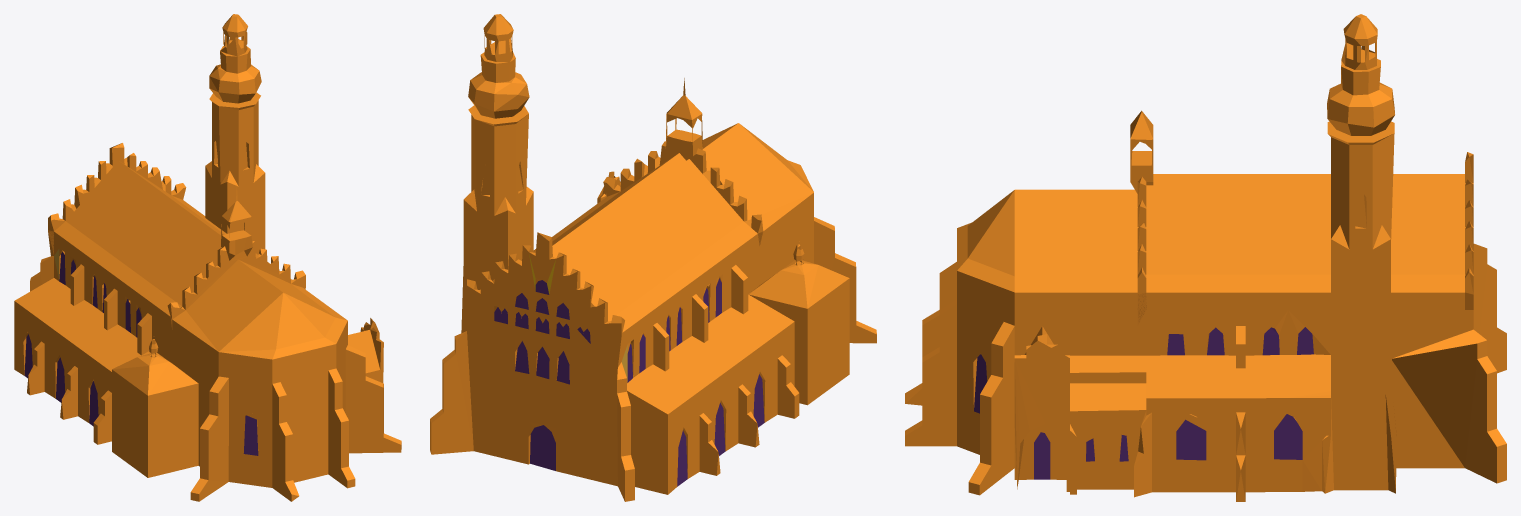
Rendered from Kościół św Jana ChrzcicielaV2.fbx.
3 views of the same model, side by side, from view 1: azimuth 30°, elevation 25°; view 2: azimuth 150°, elevation 25°; view 3: azimuth 270°, elevation 25° (orthographic). The views are drawn at different scales.
Visible parts, largest first — view 1: Cube_Cube_004; view 2: Cube_Cube_004; view 3: Cube_Cube_004.
Part boxes in pixels (box(x1,y1,x2,y2)): Cube_Cube_004: box(14, 14, 401, 501); Cube_Cube_004: box(430, 14, 876, 501); Cube_Cube_004: box(905, 14, 1506, 501).
Size of the model in its own units: 34.62 by 47.73 by 56.41.
1 material, 1 textured.
